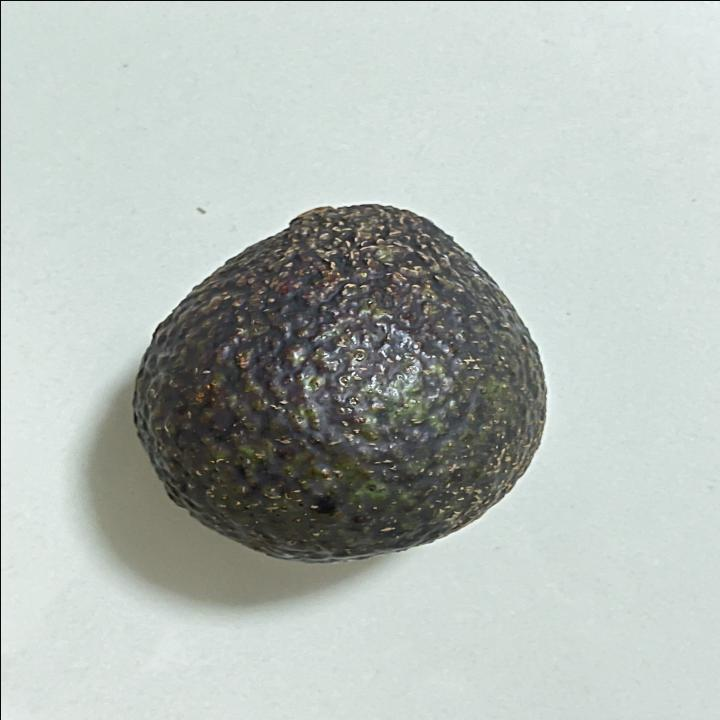Level2: (122, 193, 550, 569)
